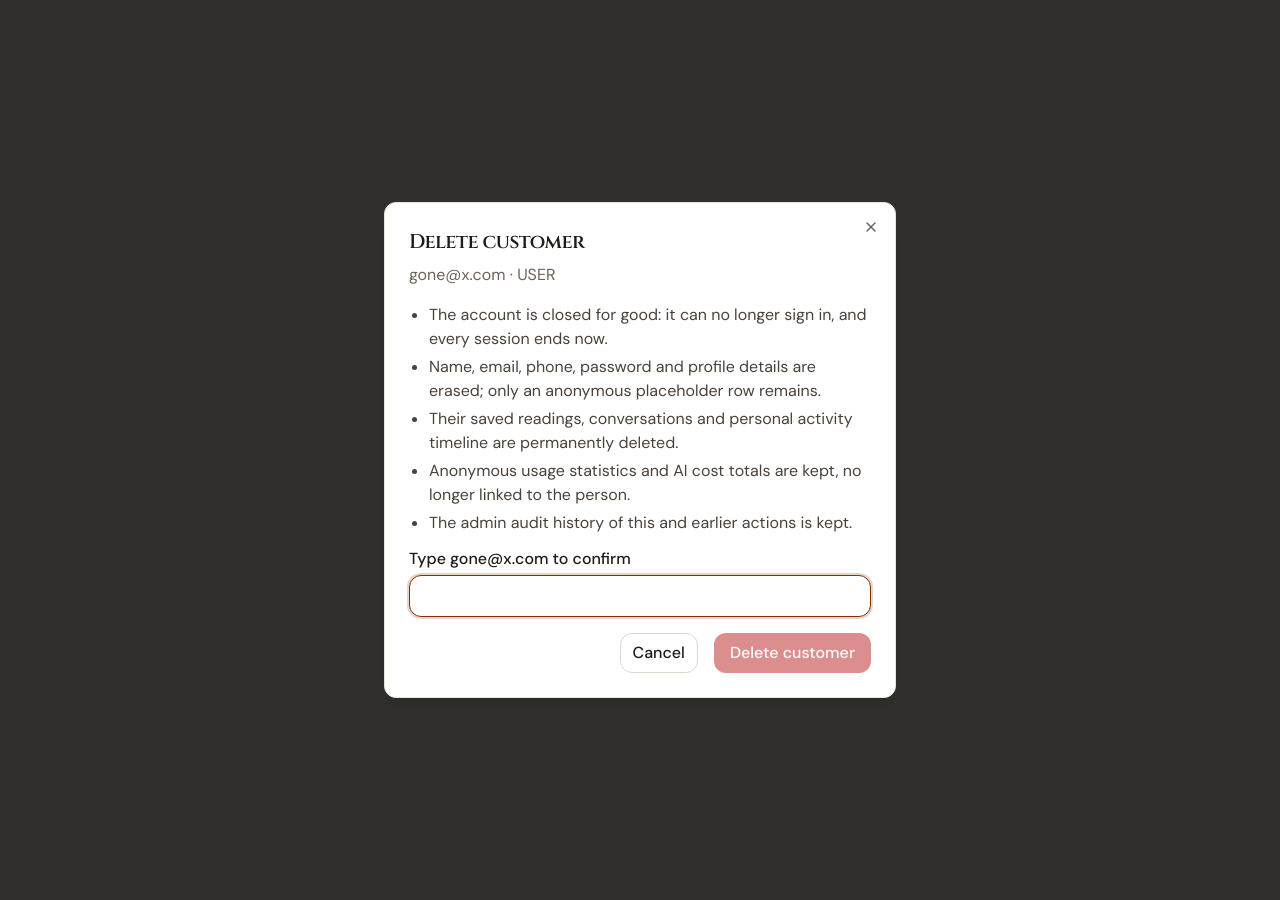
Scenario: Delete dialog › stays disabled until the exact email is typed and explains the consequences
This screenshot has width=1280, height=900.
expect the list item "permanently deleted" is shown: met, box [429,408,853,453]
expect the list item "The admin audit history of this and earlier actions is kept." is shown: met, box [429,511,871,535]
Type "other@x.com" into the field labelled "Type gone@x.com to confirm".
click(640, 596); type("other@x.com")  # box [409,575,871,617]
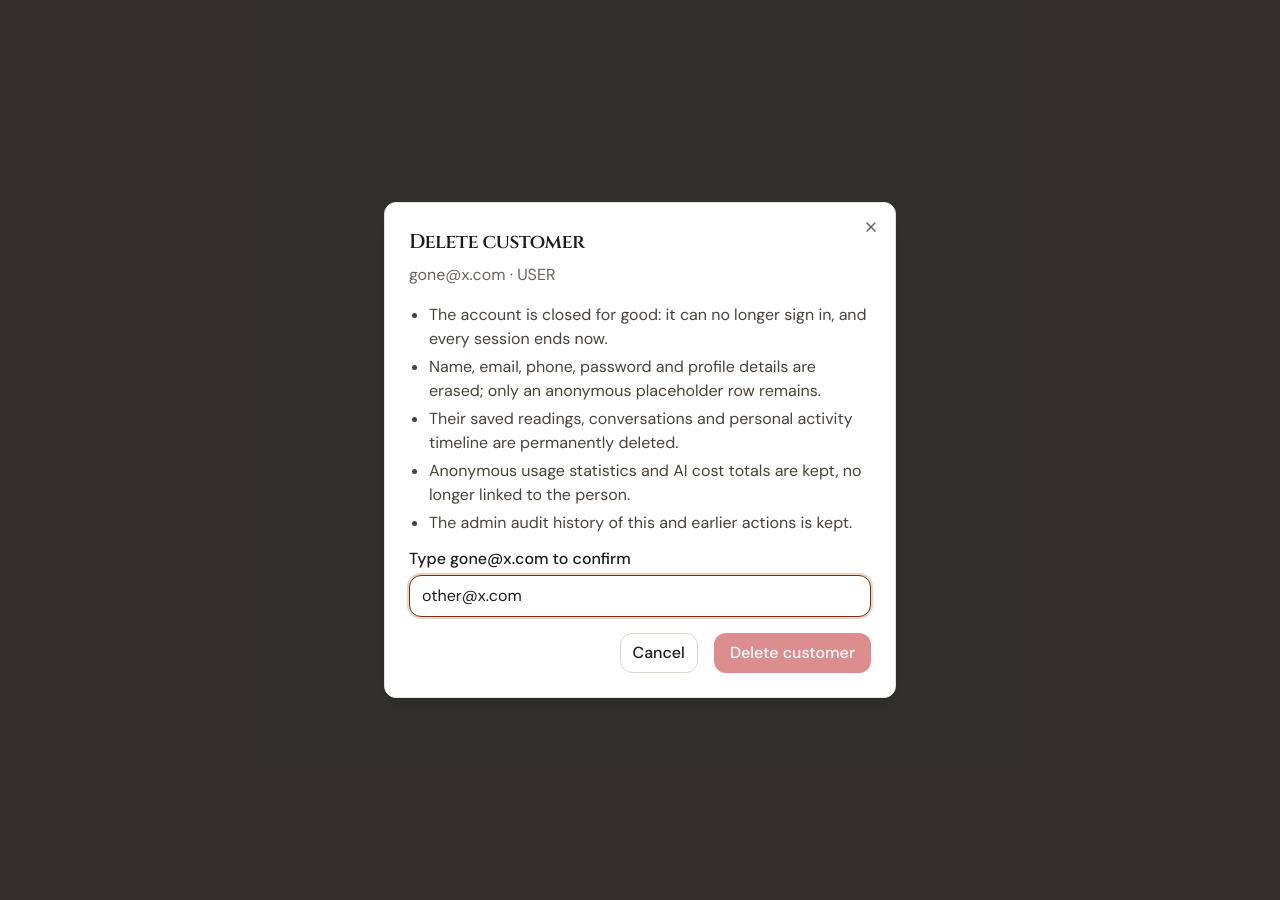
expect the button "Delete customer" is disabled: met, box [714,633,871,673]
Replace the text in the field labelled "Type gone@x.com to confirm" with "GONE@x.com" at (640, 596), box [409,575,871,617]
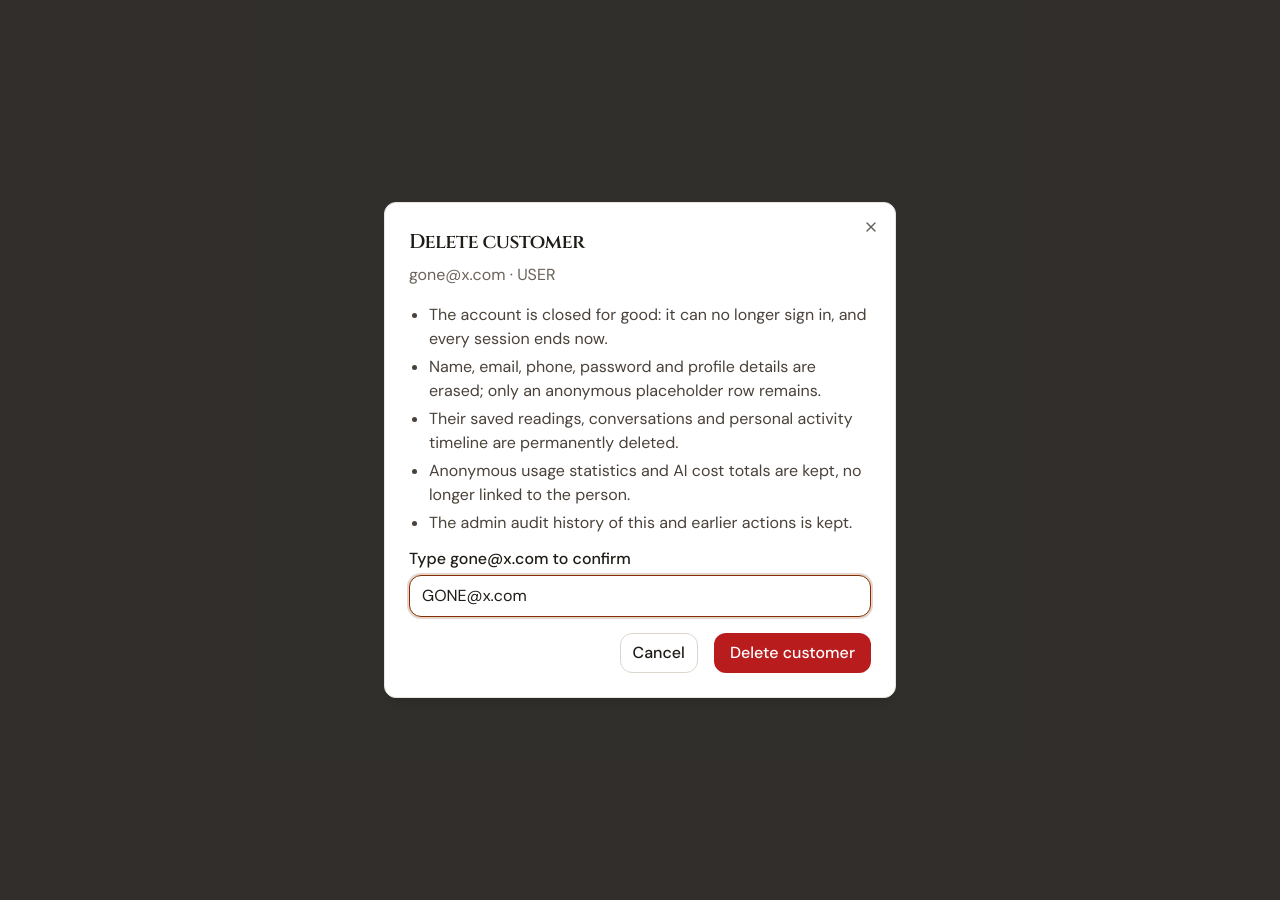
expect the button "Delete customer" is enabled: met, box [714,633,871,673]
